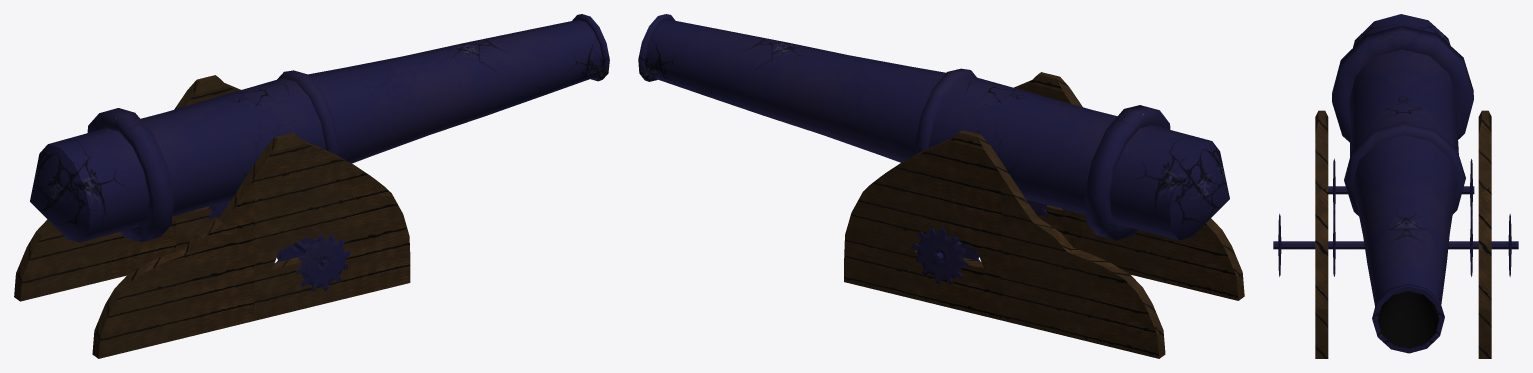
Rendered from CanhaoGrande.fbx.
The picture shows the model from 3 angles, left to right: view 1: azimuth 30°, elevation 25°; view 2: azimuth 150°, elevation 25°; view 3: azimuth 270°, elevation 25°; orthographic projection. The views are drawn at different scales.
Visible parts, largest first — view 1: BigCannonBody, BigCannonBase, BigCannonEngine1; view 2: BigCannonBody, BigCannonBase, BigCannonEngine1; view 3: BigCannonBody, BigCannonBase, BigCannonEngine1, BigCannonEngine2.
Part boxes in pixels (x1,y1,x2,y2): BigCannonBody: (30,14,609,242); BigCannonBase: (14,75,410,358); BigCannonEngine1: (209,201,350,291); BigCannonBody: (638,14,1229,240); BigCannonBase: (844,72,1244,358); BigCannonEngine1: (912,199,1048,284); BigCannonBody: (1332,14,1473,353); BigCannonBase: (1315,110,1491,358); BigCannonEngine1: (1273,213,1518,276); BigCannonEngine2: (1328,158,1474,221).
Bounding box in the file's own units: 3612 × 1197 × 1295.
